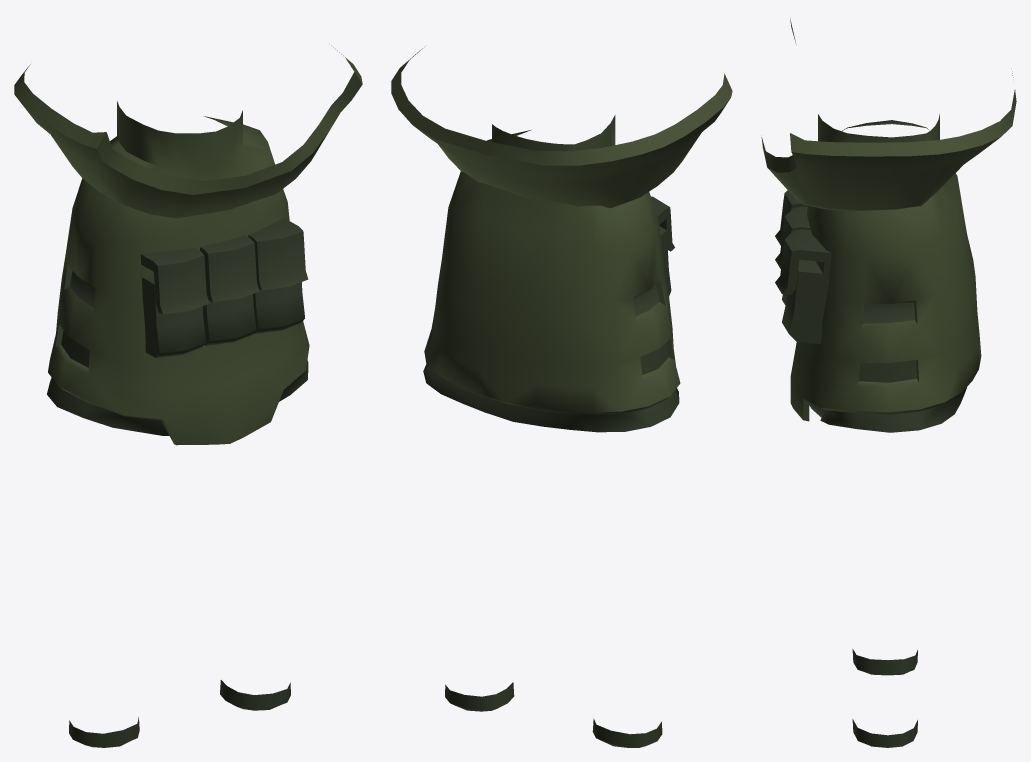
The model's file is vest2.glb.
3 renders of one model, left to right at view 1: azimuth 30°, elevation 25°; view 2: azimuth 150°, elevation 25°; view 3: azimuth 270°, elevation 25°, orthographic. The views are drawn at different scales.
Parts seen in each view (by area): view 1: item_vest2; view 2: item_vest2; view 3: item_vest2.
Boxes of the visible parts, box(x1,y1,x2,y2) form: item_vest2: box(14, 45, 362, 747); item_vest2: box(391, 48, 732, 747); item_vest2: box(761, 18, 1016, 747).
Size of the model in its own units: 0.2443 by 0.52 by 0.1916.
